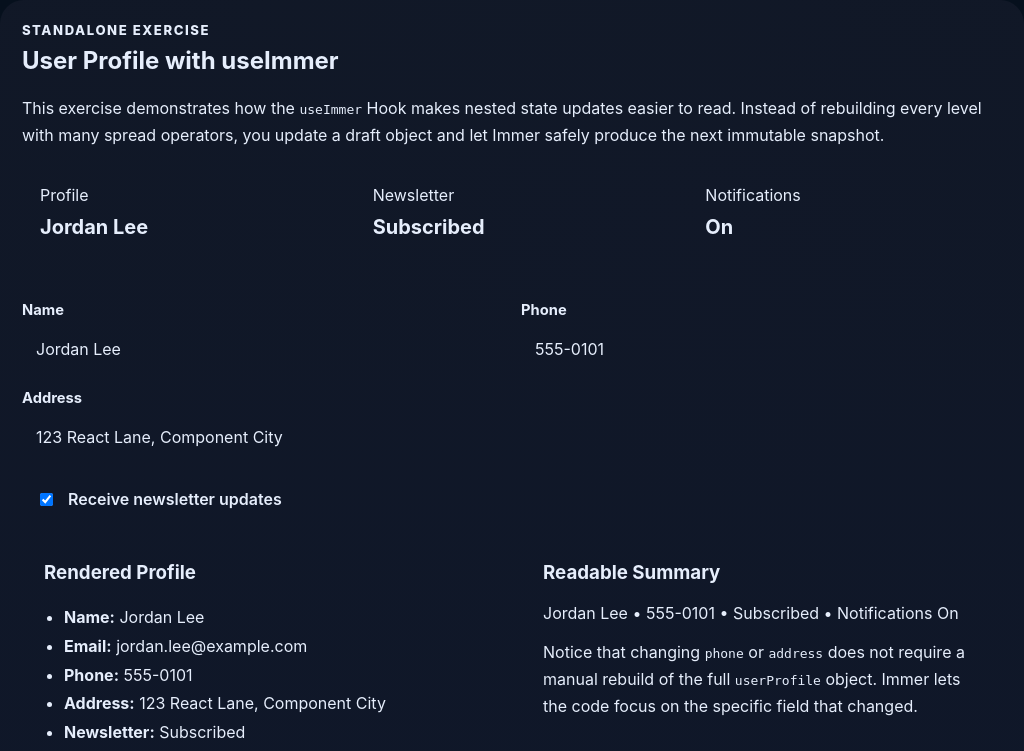
Test case: UserProfileWithImmer standalone exercise › edge: blank names are applied without crashing the component
This screenshot has width=1024, height=751.
Clear the field with test id "name-input" at x=262, y=349, box [22, 327, 503, 371]
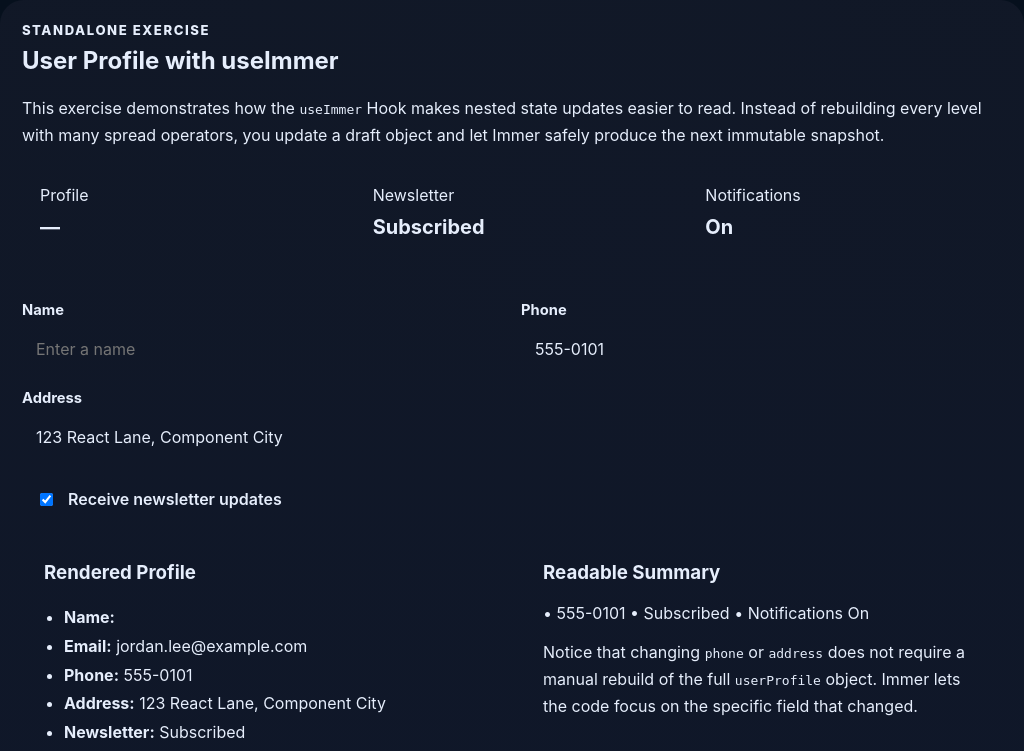
Expected: the list item with test id "profile-name" reads "Name:", [64, 607, 115, 627]
Expected: the text with test id "summary-name" reads "—", [40, 215, 60, 239]
